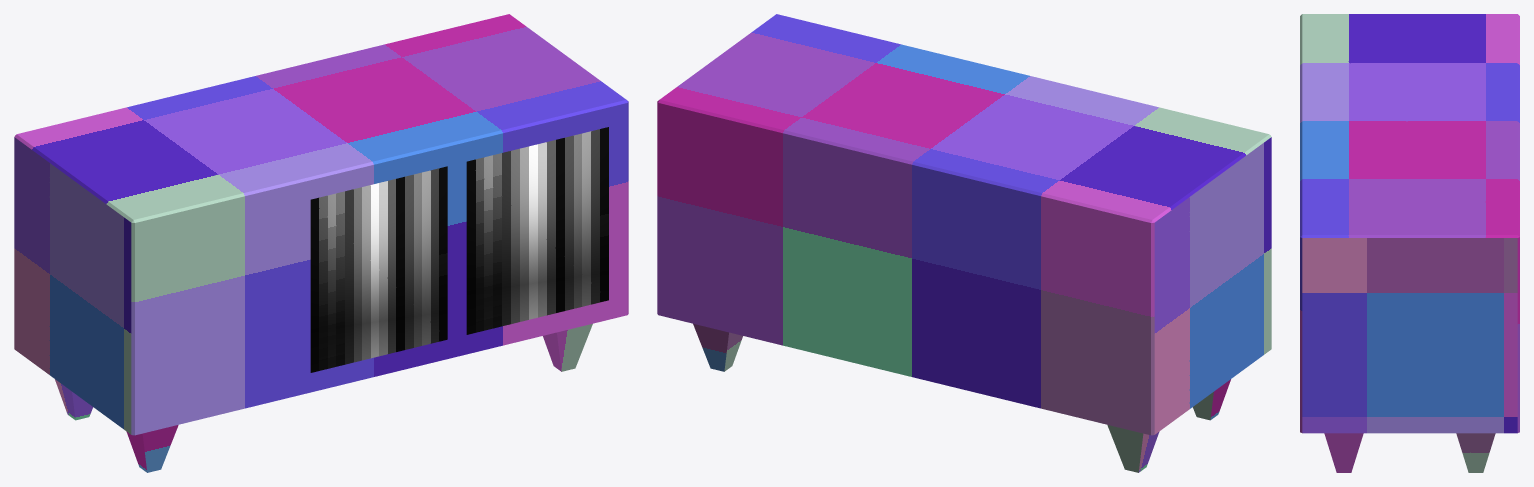
Rendered from rmk_mnc_bookshelf_mtl.dae.
3 views of the same model, side by side, from view 1: azimuth 30°, elevation 25°; view 2: azimuth 150°, elevation 25°; view 3: azimuth 270°, elevation 25° (orthographic). The views are drawn at different scales.
Visible parts, largest first — view 1: rmk_mnc_bookshelf_mtl; view 2: rmk_mnc_bookshelf_mtl; view 3: rmk_mnc_bookshelf_mtl.
Boxes of the visible parts, left/top/right/bottom form: rmk_mnc_bookshelf_mtl: left=14, top=14, right=628, bottom=472; rmk_mnc_bookshelf_mtl: left=657, top=14, right=1271, bottom=472; rmk_mnc_bookshelf_mtl: left=1300, top=14, right=1519, bottom=472.
Size of the model in its own units: 57.6 by 30.4 by 24.
2 materials, 2 textured.
